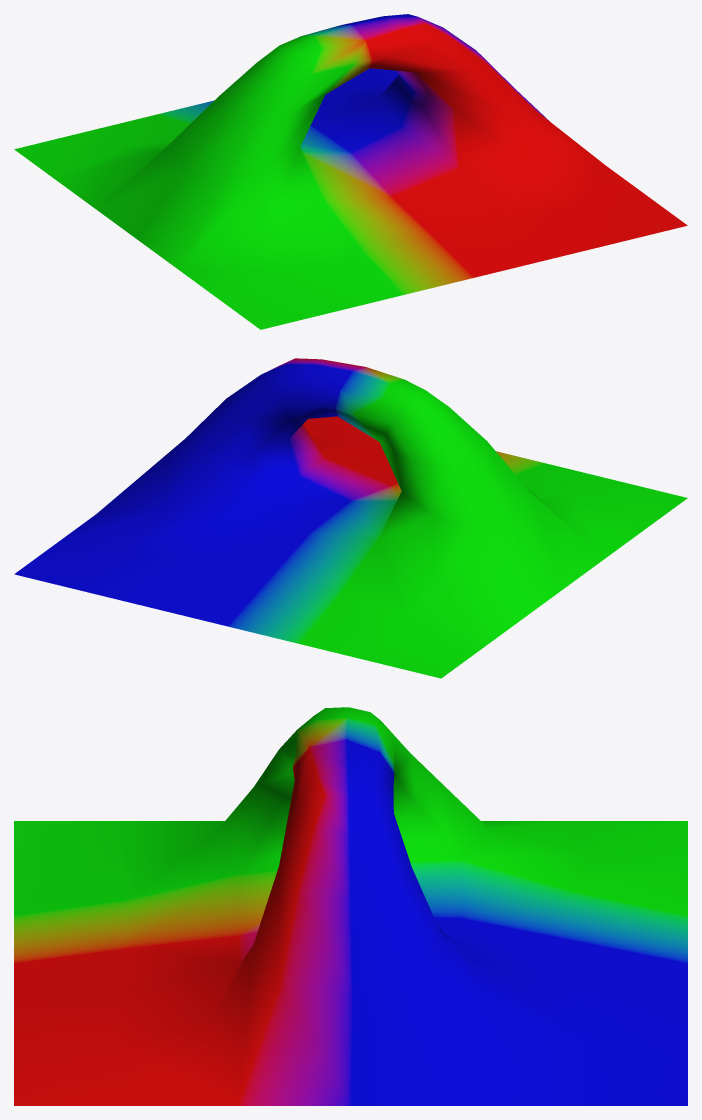
The model's file is wvbt_terrainPreview.fbx.
The picture shows the model from 3 angles, top to bottom: view 1: azimuth 30°, elevation 25°; view 2: azimuth 150°, elevation 25°; view 3: azimuth 270°, elevation 25°; orthographic projection. The views are drawn at different scales.
Visible parts, largest first — view 1: Cube; view 2: Cube; view 3: Cube.
Part boxes in pixels (box(x1,y1,x2,y2)): Cube: box(14, 14, 687, 329); Cube: box(14, 358, 687, 678); Cube: box(14, 707, 687, 1105).
Bounding box in the file's own units: 200 × 73.26 × 200.
